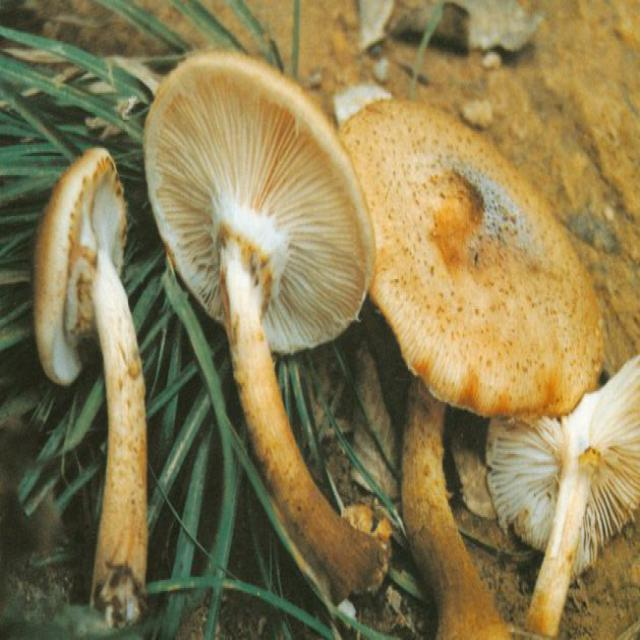Armillaria mellea: (333, 101, 640, 637), (145, 55, 382, 592), (35, 141, 149, 624)
